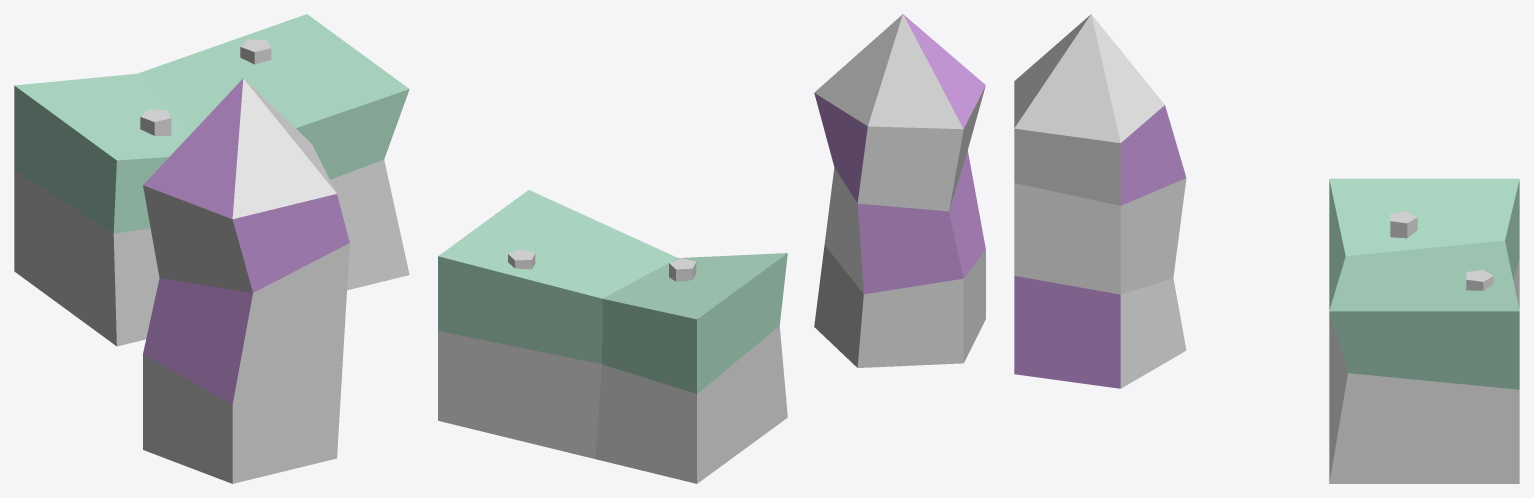
The model's file is crystal.fbx.
3 views of the same model, side by side, from view 1: azimuth 30°, elevation 25°; view 2: azimuth 150°, elevation 25°; view 3: azimuth 270°, elevation 25° (orthographic). The views are drawn at different scales.
Visible parts, largest first — view 1: Cylinder, Cube, Cylinder.001, Cylinder.002; view 2: Cube, Cylinder; view 3: Cube, Cylinder, Cylinder.001.
Part boxes in pixels (x1=…): Cylinder: x1=143, y1=78, x2=349, y2=483; Cube: x1=14, y1=14, x2=409, y2=346; Cylinder.001: x1=140, y1=109, x2=171, y2=135; Cylinder.002: x1=240, y1=39, x2=271, y2=64; Cube: x1=438, y1=190, x2=787, y2=483; Cylinder: x1=814, y1=14, x2=985, y2=367; Cube: x1=1329, y1=178, x2=1519, y2=483; Cylinder: x1=1014, y1=14, x2=1186, y2=388; Cylinder.001: x1=1390, y1=211, x2=1417, y2=238.
Size of the model in its own units: 427 by 390 by 531.
